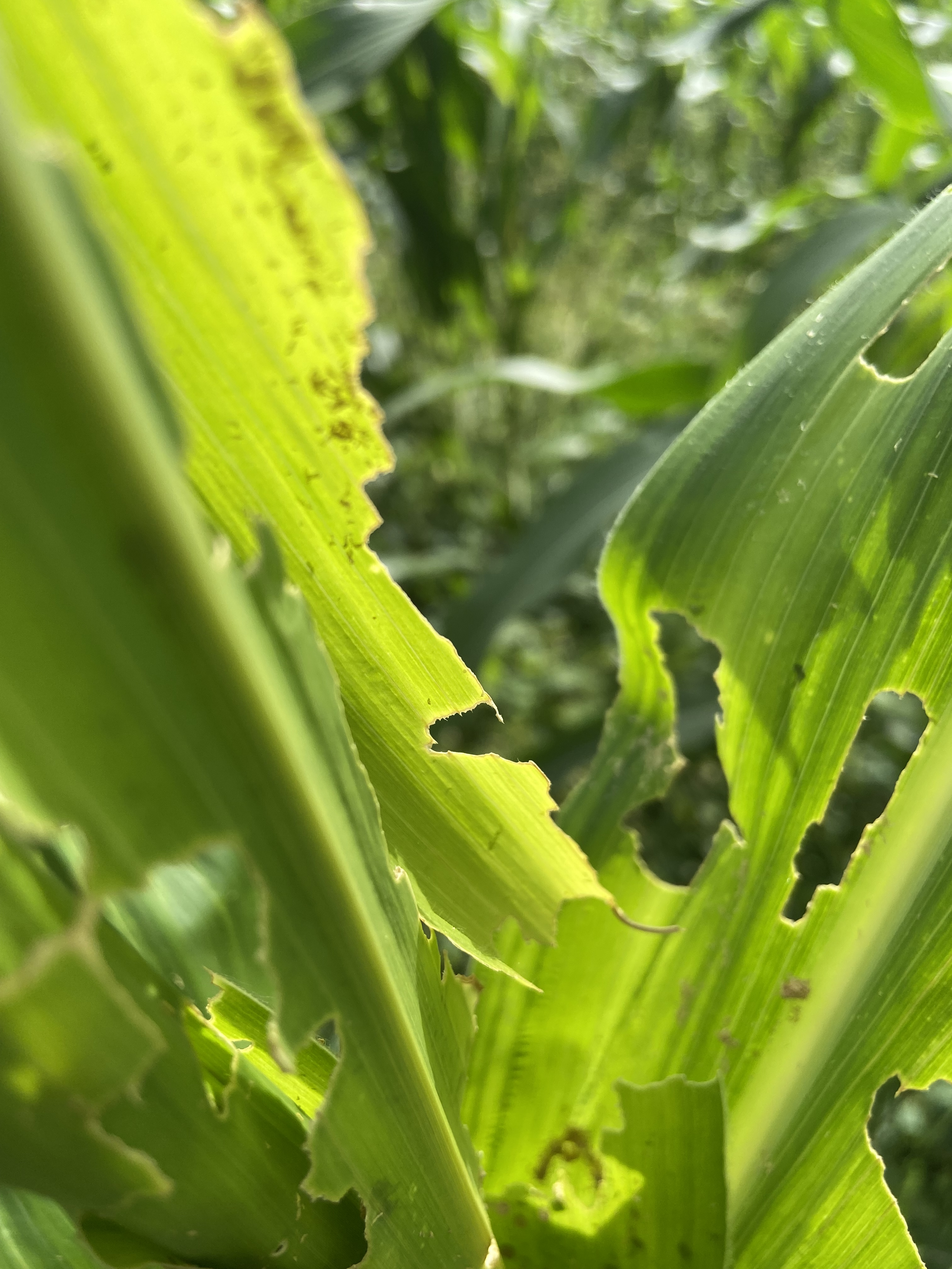early_to_moderate: (171, 30, 388, 509), (436, 1130, 623, 1269)
severe: (0, 789, 361, 1269), (370, 563, 786, 925), (479, 1022, 780, 1248), (768, 618, 931, 976), (289, 829, 554, 1034), (819, 1034, 952, 1263), (771, 253, 952, 401)
